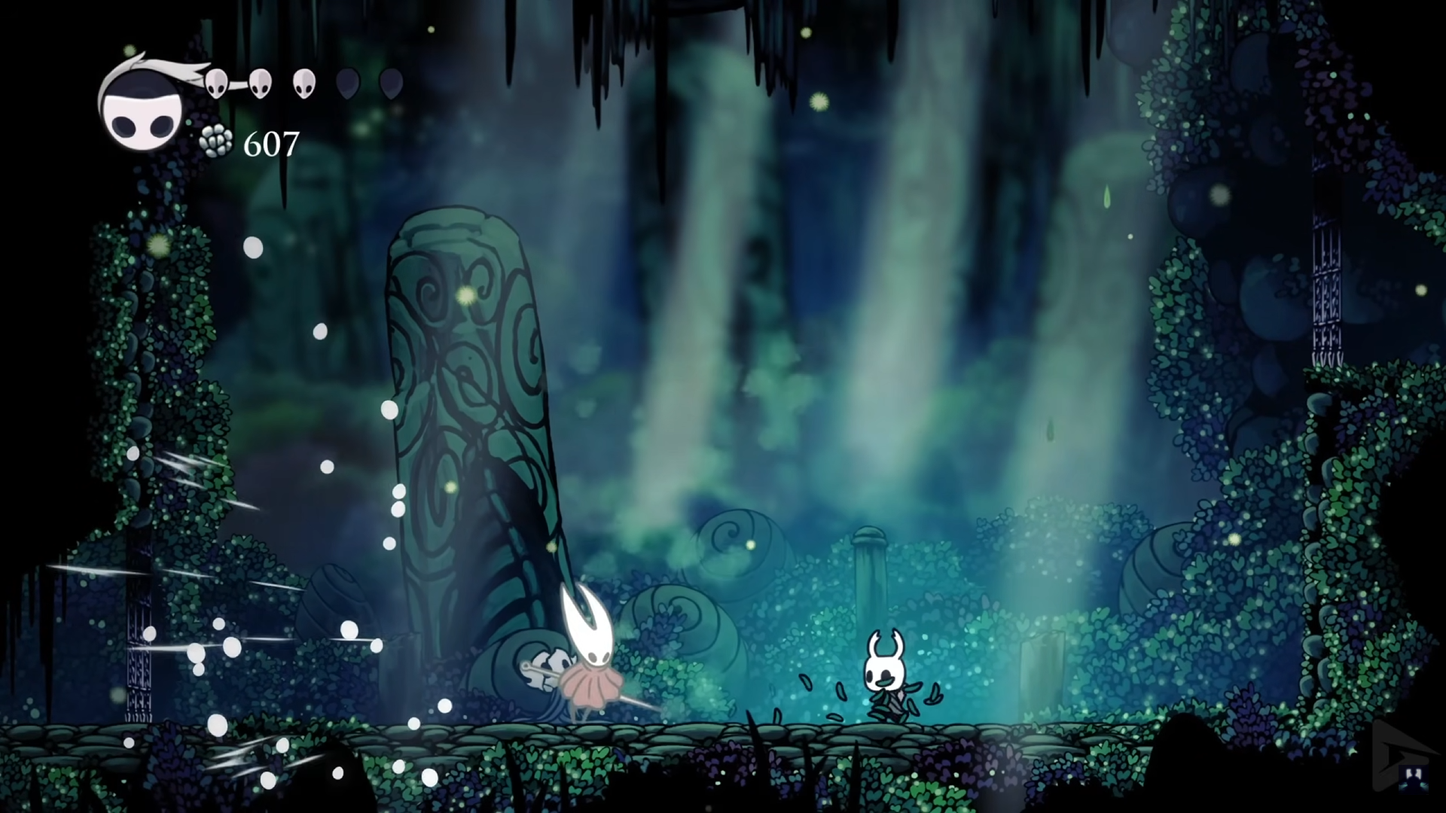HK: (857, 631, 915, 728)
